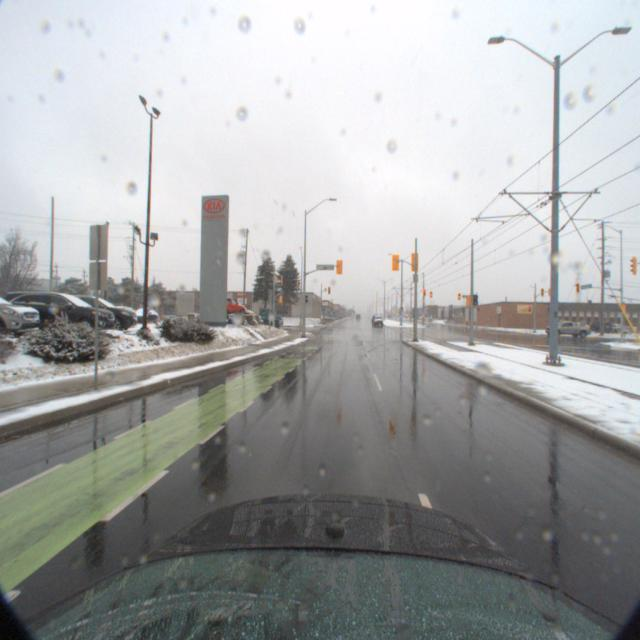Car: (29, 285, 141, 329), (205, 290, 248, 311), (124, 300, 158, 318)
Truck: (208, 297, 286, 322), (548, 317, 598, 335)
